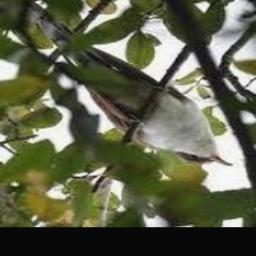Cuckoo: (24, 4, 232, 167)
